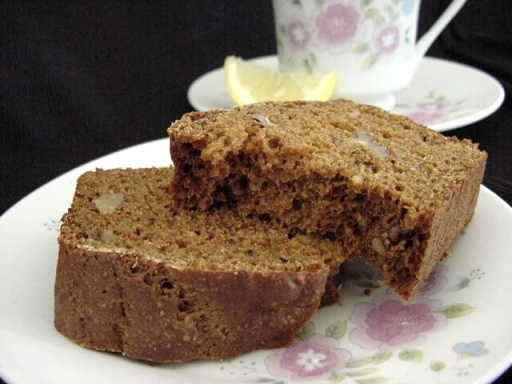background: (42, 32, 391, 218)
